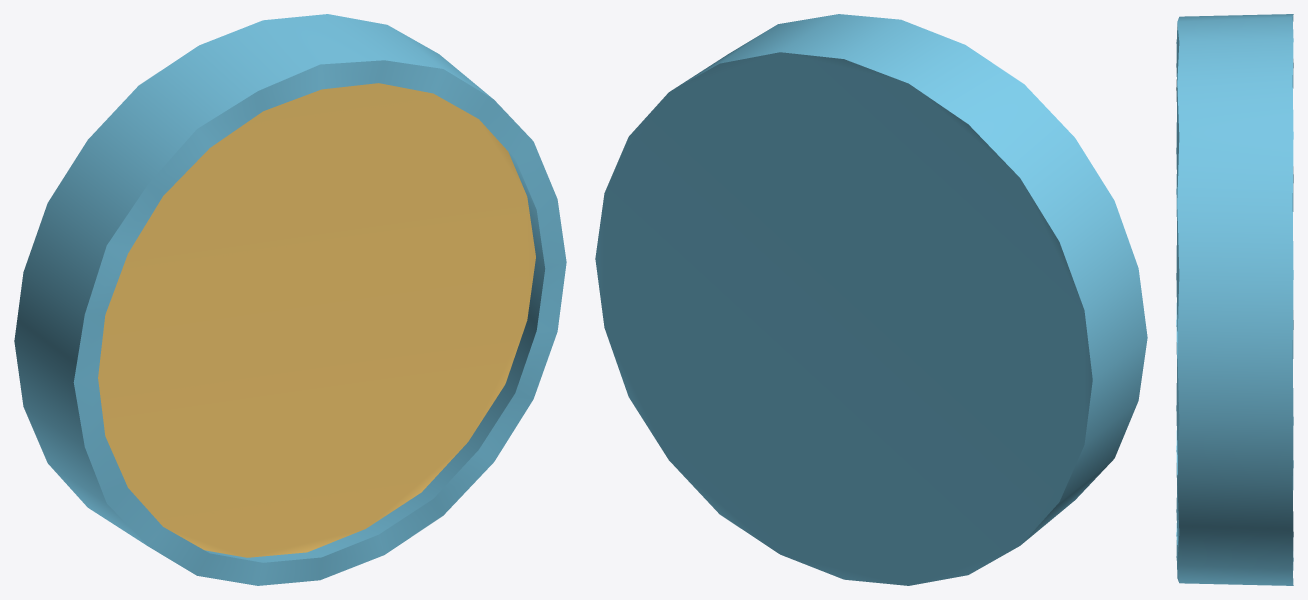
The model's file is clock.FBX.
The picture shows the model from 3 angles, left to right: view 1: azimuth 30°, elevation 25°; view 2: azimuth 150°, elevation 25°; view 3: azimuth 270°, elevation 25°; orthographic projection.
Visible parts, largest first — view 1: wallLight; view 2: wallLight; view 3: wallLight.
Boxes of the visible parts, x1,y1,x2,y2 form: wallLight: (14, 14, 566, 585); wallLight: (595, 14, 1147, 585); wallLight: (1176, 14, 1293, 585).
Bounding box in the file's own units: 32.36 × 32.36 × 6.6.
